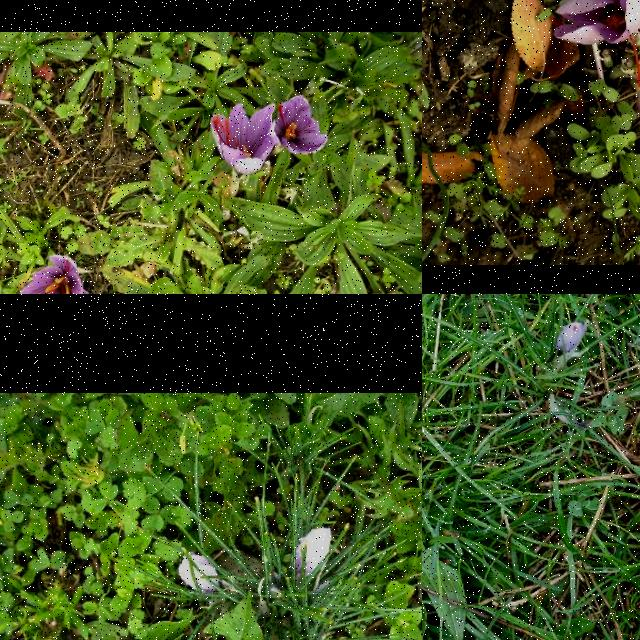flower: (553, 0, 640, 88), (210, 102, 280, 174), (273, 96, 329, 154), (15, 254, 90, 294), (288, 528, 332, 584), (178, 553, 220, 595), (557, 323, 585, 351)
